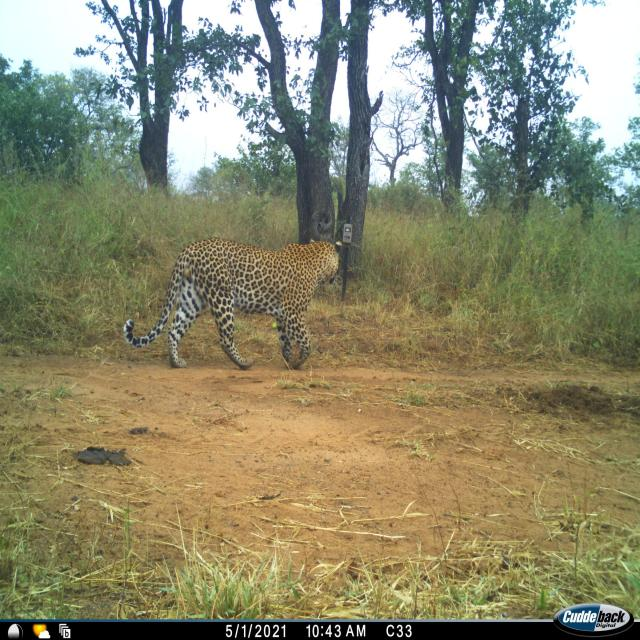Leopard: (123, 232, 344, 383)
